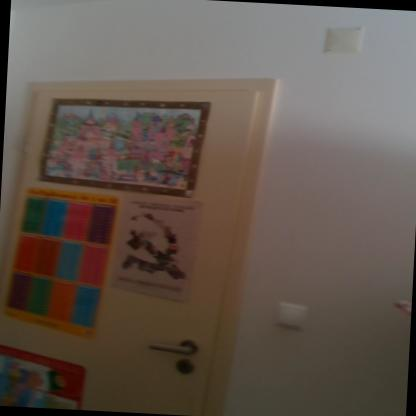closed: (0, 49, 276, 416)
